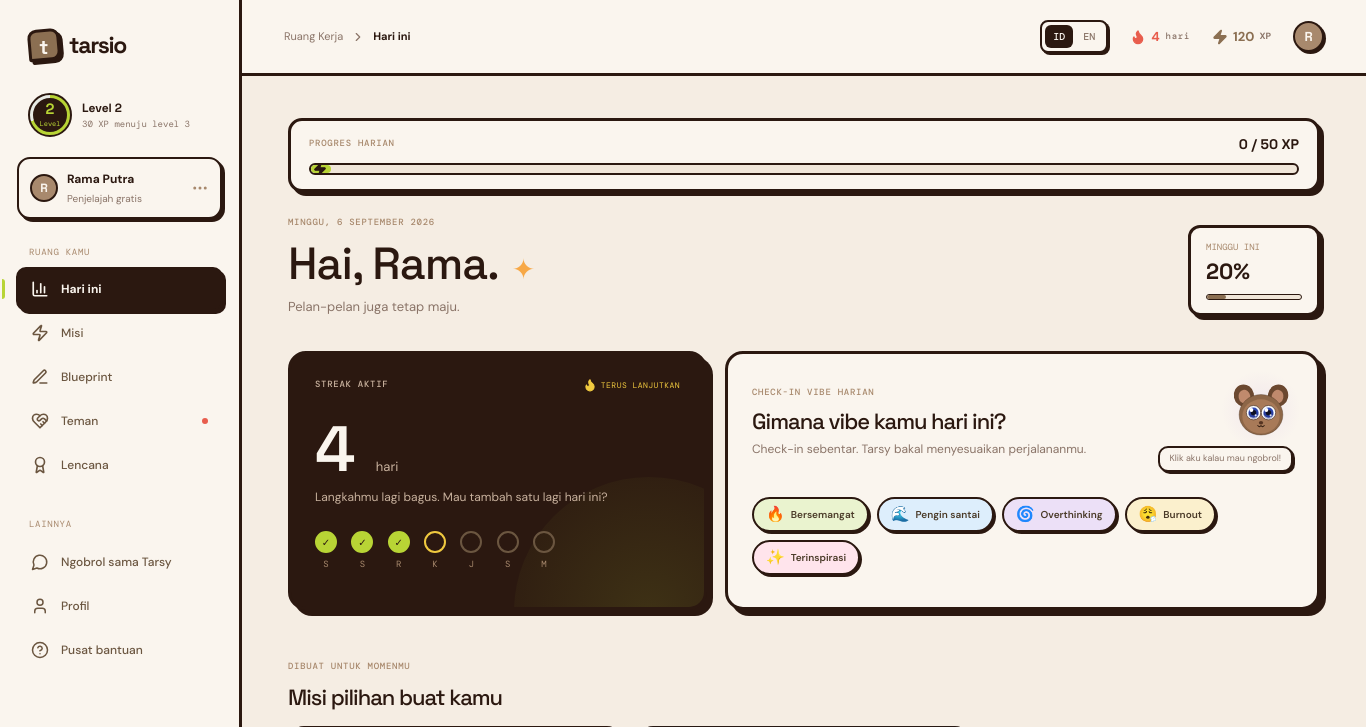
Test: Dashboard › opens the Tarsy chat drawer with a welcome message
Expected: the heading "Hai, Rama. ✦" is shown, [288, 240, 534, 286]
Click the button "Ngobrol sama Tarsy": (120, 562) [16, 540, 223, 584]
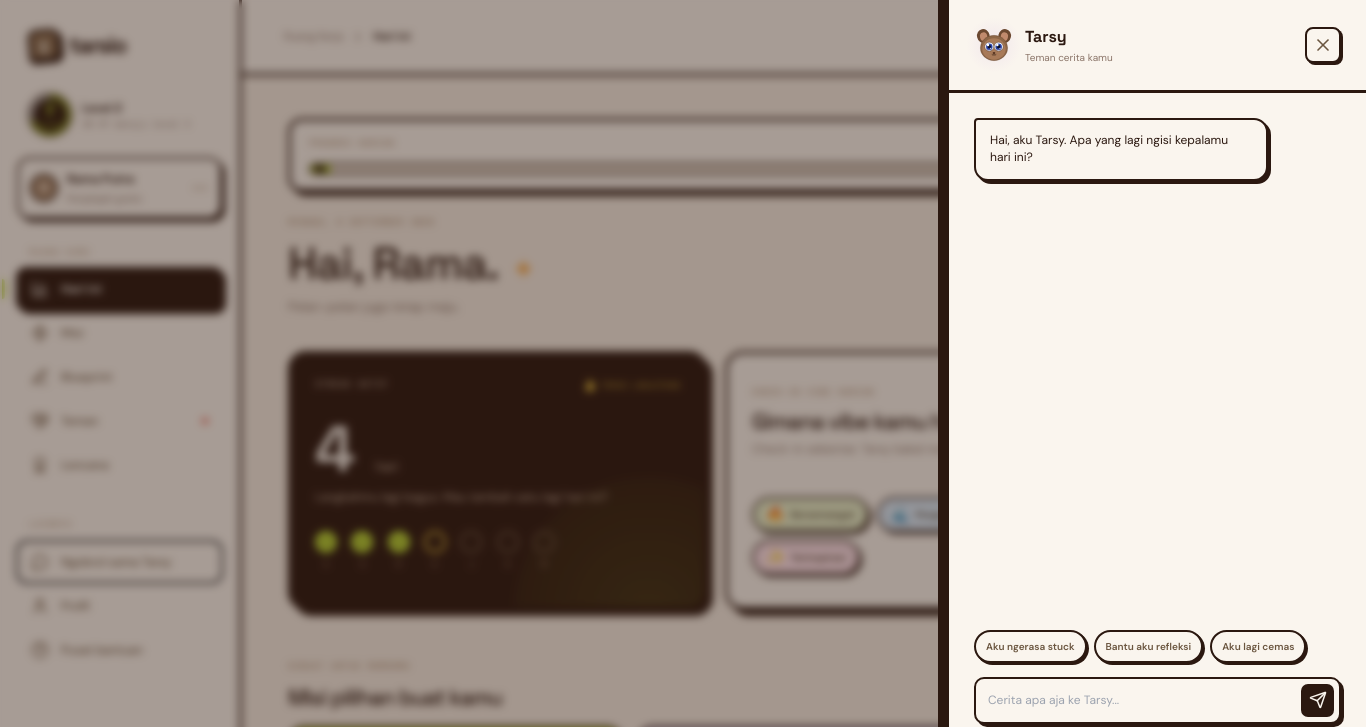
Now the text "Hai, aku Tarsy. Apa yang lagi ngisi kepalamu hari ini?" is shown, box [990, 132, 1228, 165]
